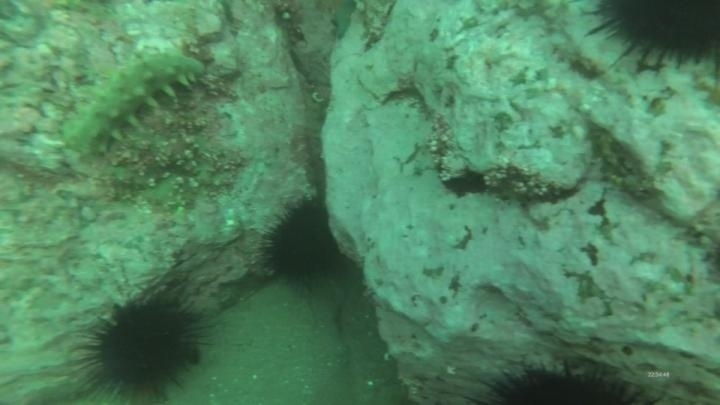echinus: (71, 289, 212, 402), (588, 1, 720, 72), (474, 353, 643, 404), (258, 196, 343, 289)
holothurian: (60, 48, 206, 160)
